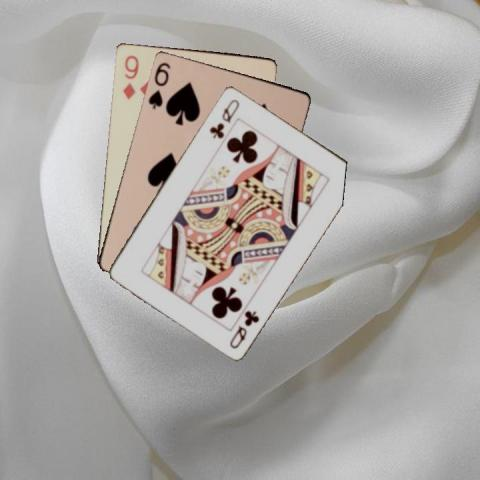6s: (145, 59, 172, 110)
9d: (119, 52, 139, 101)
Qc: (206, 95, 241, 140), (226, 307, 261, 350)
